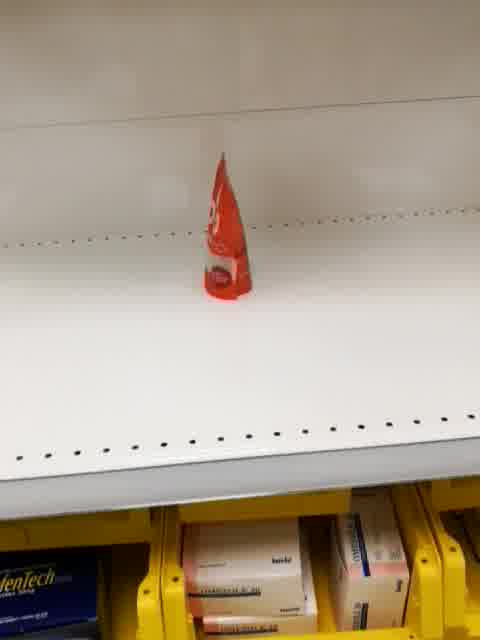whitechia: (200, 151, 255, 303)
